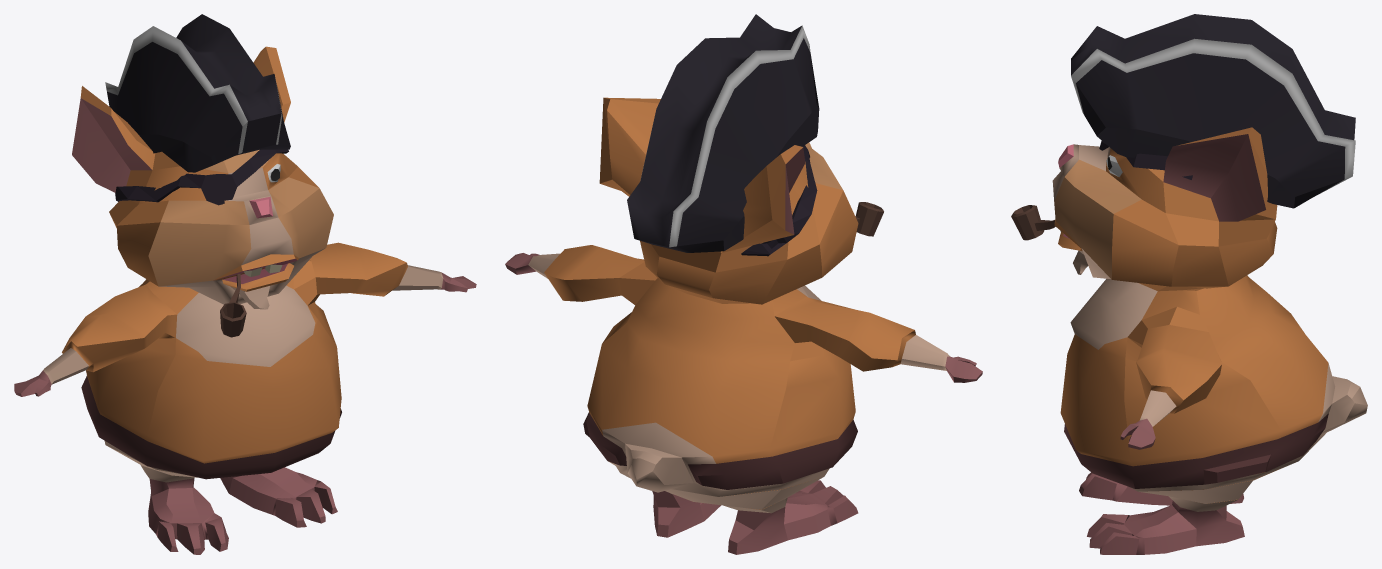
File: captain.fbx
3 renders of one model, left to right at view 1: azimuth 30°, elevation 25°; view 2: azimuth 150°, elevation 25°; view 3: azimuth 270°, elevation 25°, orthographic. The views are drawn at different scales.
Visible parts, largest first — view 1: pSphere2, pCube3, pCylinder1, kapitein_haatbaard_zijn_pijp; view 2: pSphere2, pCube3, pCylinder1, kapitein_haatbaard_zijn_pijp; view 3: pSphere2, pCube3, kapitein_haatbaard_zijn_pijp, pCylinder1.
Boxes of the visible parts, left/top/right/bottom form: pSphere2: left=14, top=46, right=476, bottom=554; pCube3: left=105, top=14, right=290, bottom=172; pCylinder1: left=115, top=149, right=288, bottom=205; kapitein_haatbaard_zijn_pijp: left=220, top=274, right=246, bottom=337; pSphere2: left=505, top=97, right=982, bottom=554; pCube3: left=627, top=14, right=819, bottom=252; pCylinder1: left=741, top=145, right=817, bottom=256; kapitein_haatbaard_zijn_pijp: left=855, top=202, right=883, bottom=236; pSphere2: left=1052, top=127, right=1367, bottom=554; pCube3: left=1071, top=14, right=1355, bottom=208; kapitein_haatbaard_zijn_pijp: left=1011, top=205, right=1055, bottom=240; pCylinder1: left=1099, top=141, right=1192, bottom=179.
Size of the model in its own units: 6.31 by 6.2 by 4.12.
